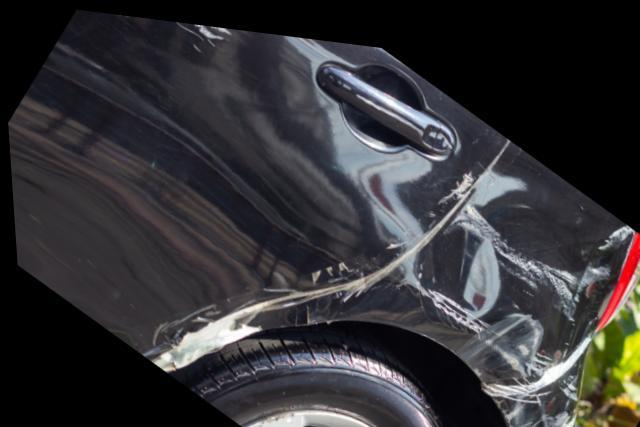scratch: (411, 187, 632, 427), (179, 18, 238, 51)
